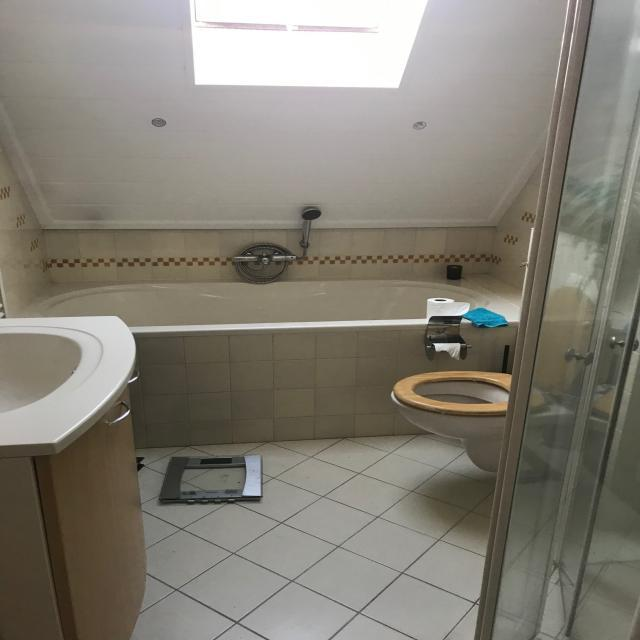bath: (0, 240, 521, 370)
douche: (473, 0, 640, 640)
toilet: (388, 270, 604, 472)
wastafel: (0, 365, 147, 640), (0, 314, 136, 461)
